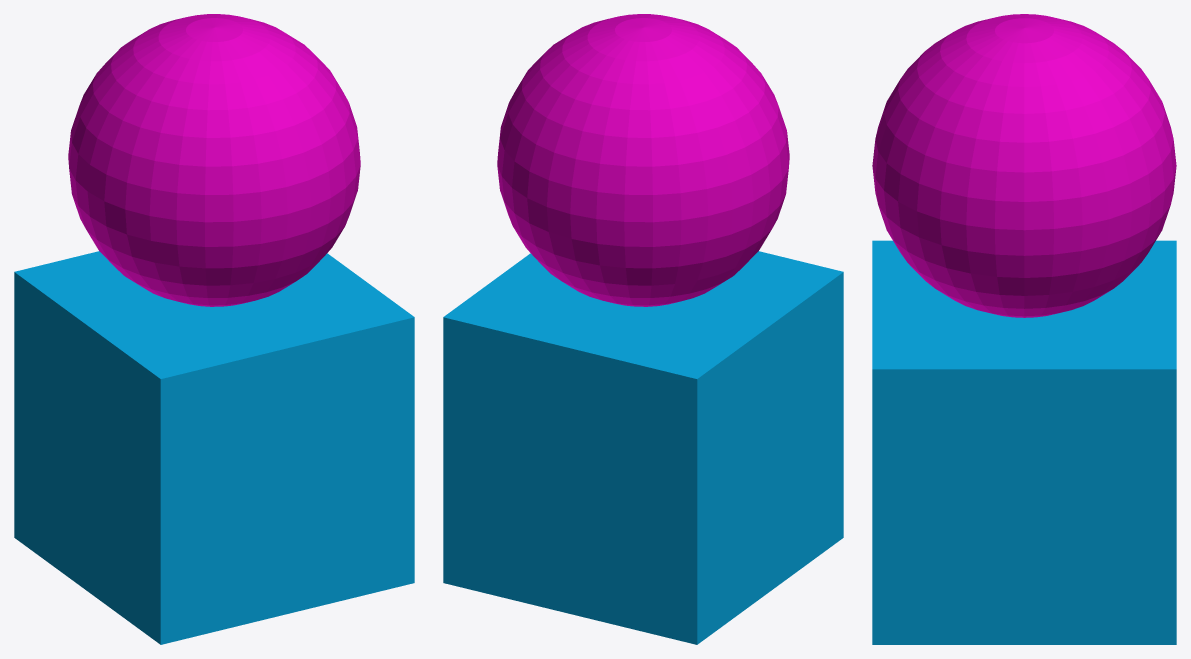
Rendered from primitives.gltf.
The picture shows the model from 3 angles, left to right: view 1: azimuth 30°, elevation 25°; view 2: azimuth 150°, elevation 25°; view 3: azimuth 270°, elevation 25°; orthographic projection. The views are drawn at different scales.
Parts seen in each view (by area): view 1: Cube, Sphere; view 2: Cube, Sphere; view 3: Cube, Sphere.
Boxes of the visible parts, x1=… form: Cube: x1=14, y1=251, x2=414, y2=644; Sphere: x1=68, y1=14, x2=360, y2=306; Cube: x1=443, y1=251, x2=843, y2=644; Sphere: x1=497, y1=14, x2=789, y2=306; Cube: x1=872, y1=240, x2=1176, y2=644; Sphere: x1=872, y1=14, x2=1176, y2=317.
Bounding box in the file's own units: 2 × 4.01 × 2.
